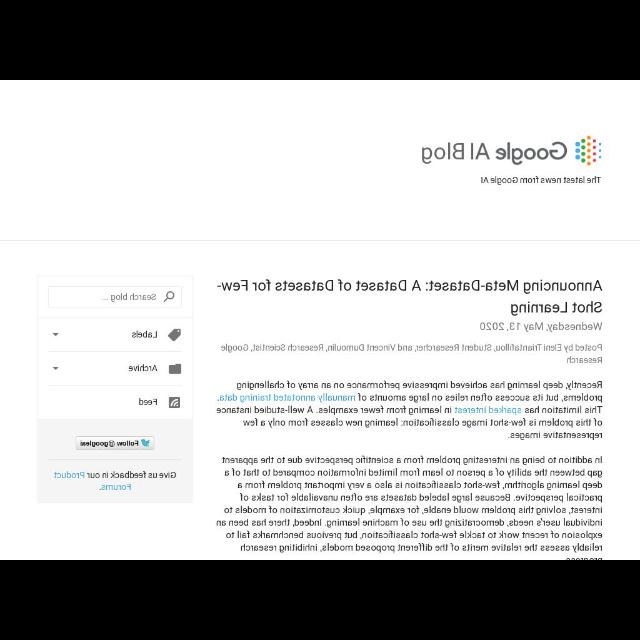icon: (168, 328, 180, 342), (163, 291, 175, 303), (168, 397, 180, 409), (168, 364, 182, 374), (52, 333, 59, 337), (53, 367, 59, 371)
image: (422, 136, 602, 164), (142, 439, 150, 447)
input: (48, 286, 182, 308)
panel: (38, 276, 192, 504)
text: (216, 456, 602, 560), (216, 380, 602, 440), (216, 280, 602, 316), (222, 344, 602, 364), (54, 472, 176, 491), (480, 322, 602, 332), (481, 177, 602, 186), (80, 440, 138, 448), (102, 294, 156, 302), (128, 364, 158, 372), (139, 398, 157, 406), (132, 332, 156, 338)
textbutton: (76, 436, 154, 449)
